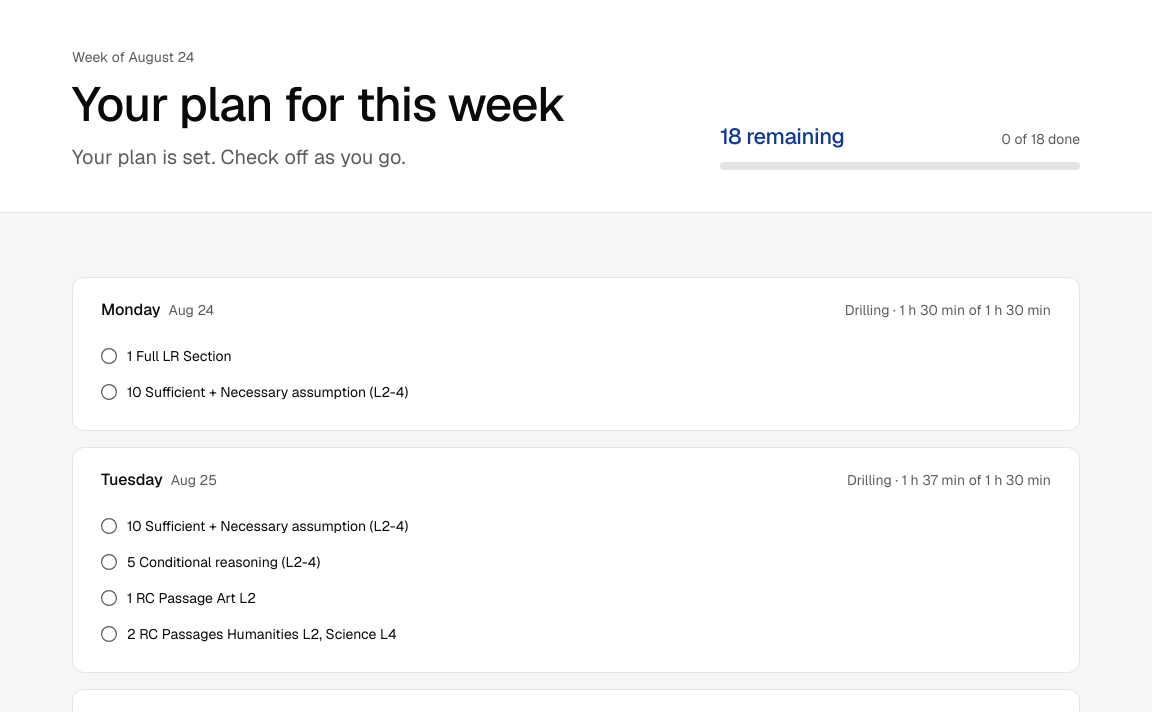
ScheduleCheckInView › keeps the error code when another line saves, and closes it when the failed line saves
Click the checkbox labelled "1 Full LR Section" at (179, 356), box [93,338,1059,374]
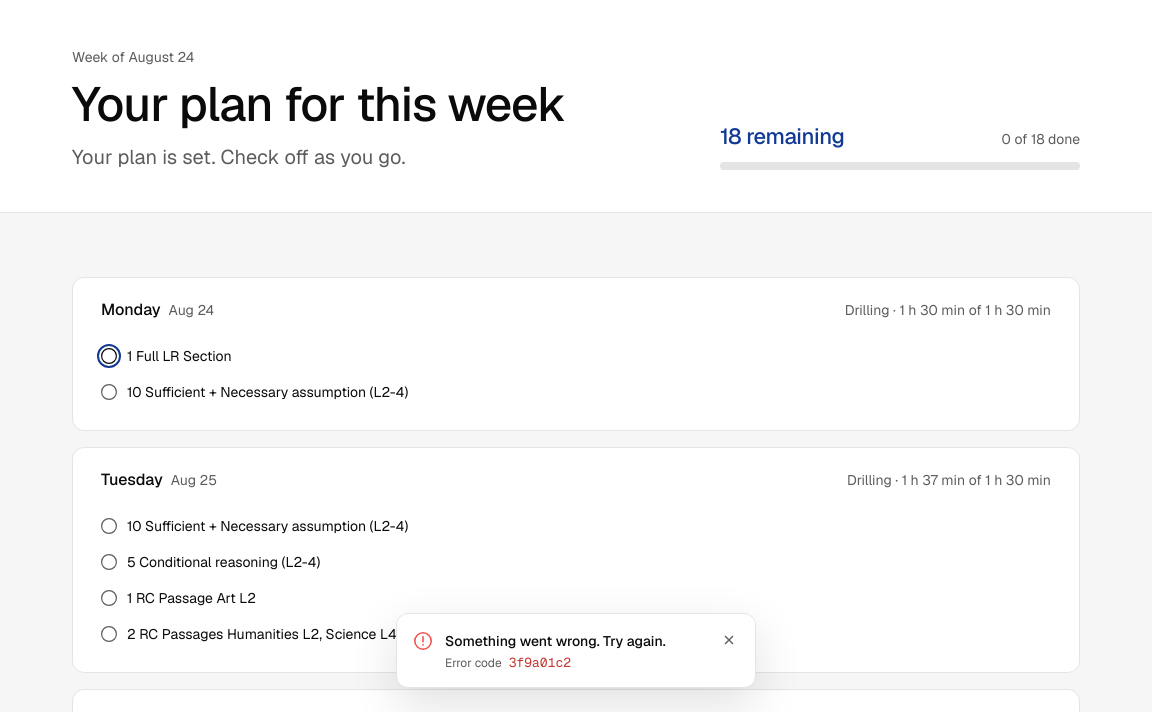
Click the checkbox labelled "10 Sufficient + Necessary assumption (L2-4)" below "Monday" at (268, 392), box [93,374,1059,410]
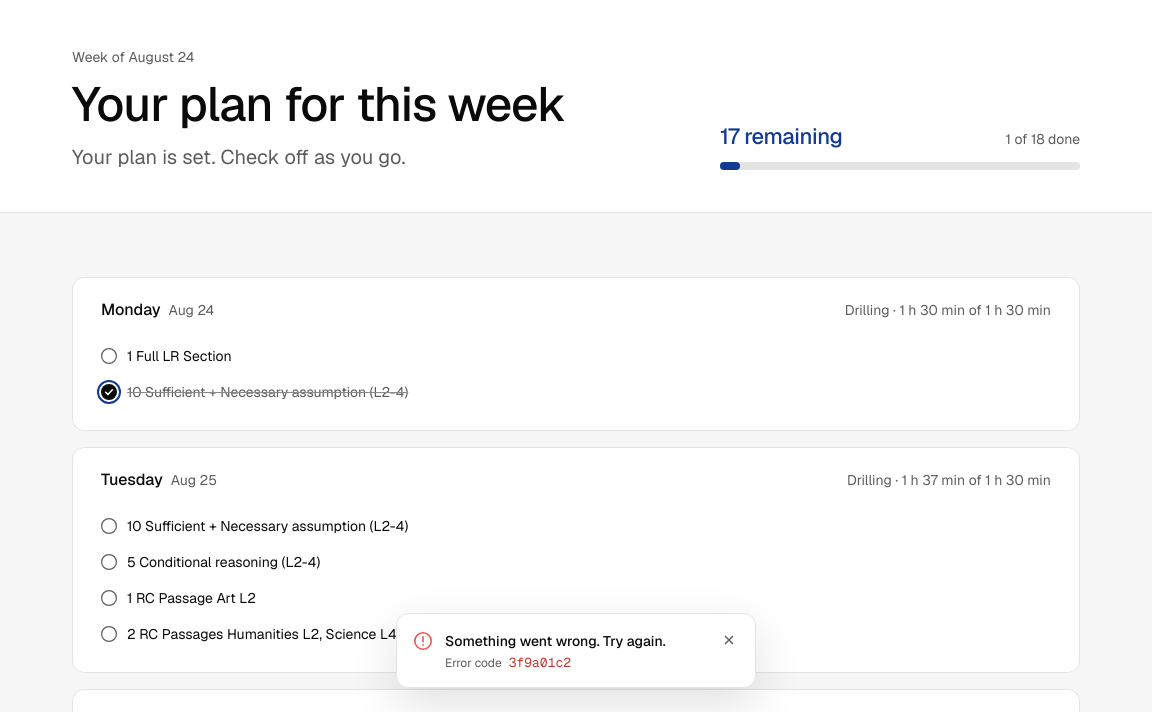
expect the text "1 of 18 done" is shown: met, box [1006,130,1080,148]
Click the checkbox labelled "1 Full LR Section" at (179, 356), box [93,338,1059,374]
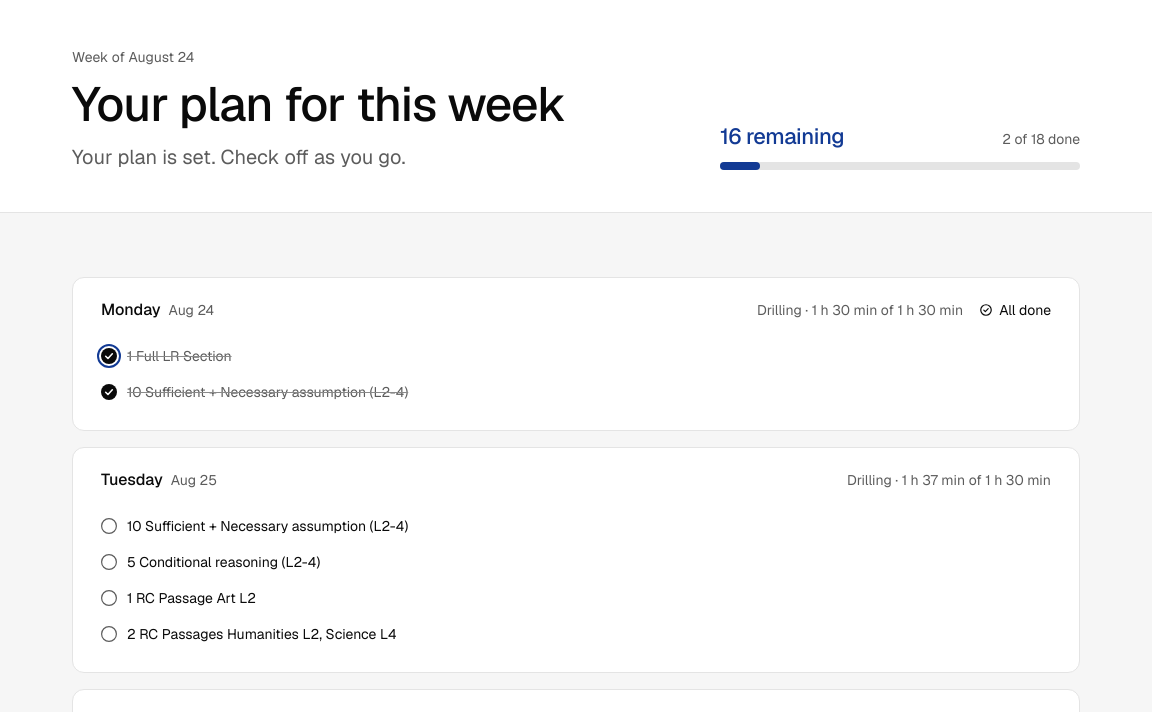
expect the text "2 of 18 done" is shown: met, box [1002,130,1080,148]
expect the message "Something went wrong. Try again. Error code 3f9a01c2" is gone: met
